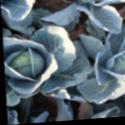cabbage: (6, 43, 50, 79), (109, 48, 125, 85)
